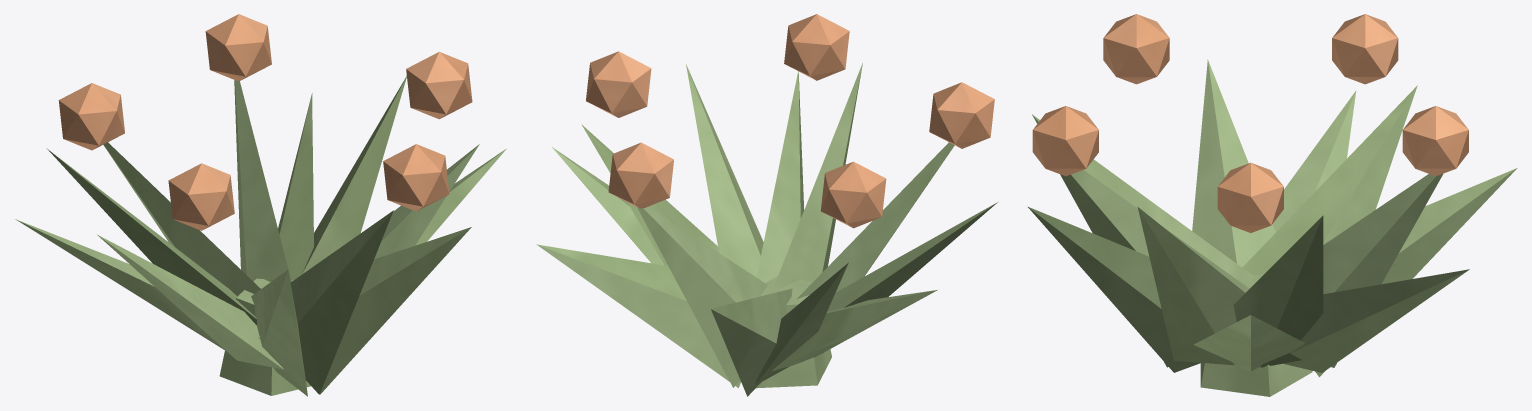
The model's file is sm_crop_herb_4.glb.
3 renders of one model, left to right at view 1: azimuth 30°, elevation 25°; view 2: azimuth 150°, elevation 25°; view 3: azimuth 270°, elevation 25°, orthographic. The views are drawn at different scales.
Visible parts, largest first — view 1: sm_crop_herb_4; view 2: sm_crop_herb_4; view 3: sm_crop_herb_4.
Part boxes in pixels (x1,y1,x2,y2): sm_crop_herb_4: (15, 14, 506, 396); sm_crop_herb_4: (536, 14, 997, 396); sm_crop_herb_4: (1027, 14, 1517, 396).
Bounding box in the file's own units: 0.301 × 0.1858 × 0.2776.
1 material, 1 textured.
